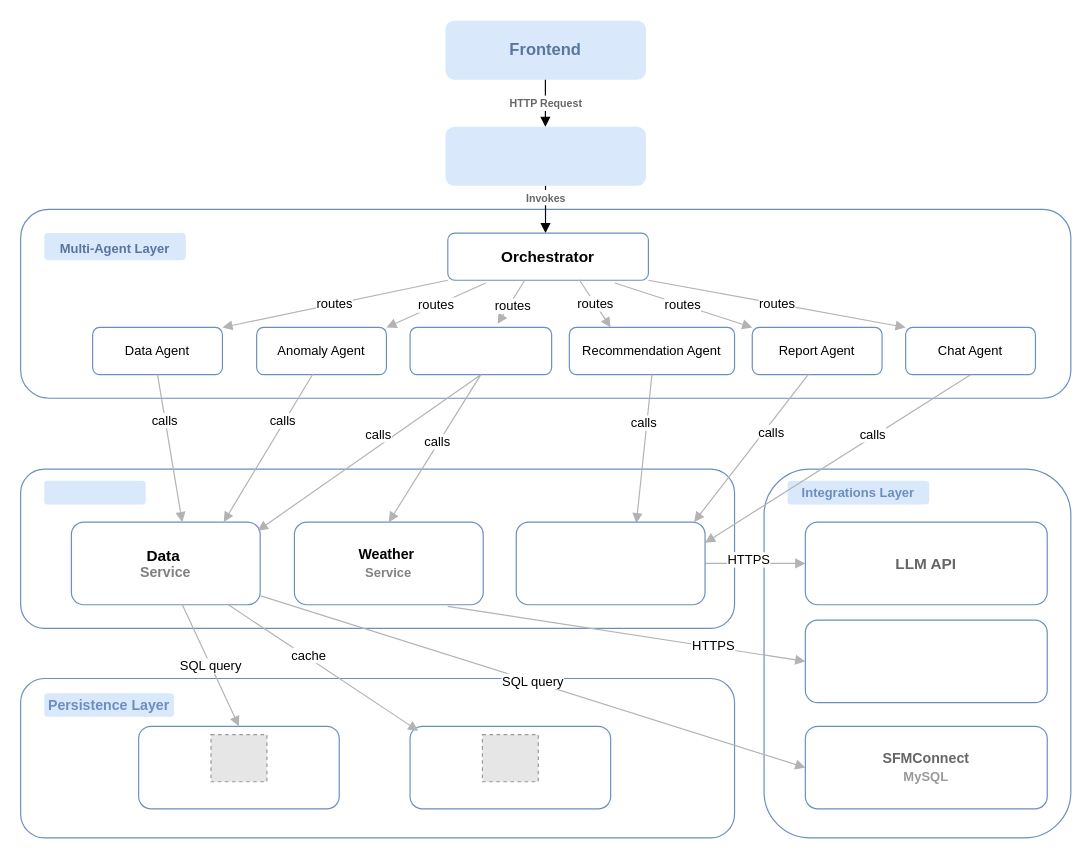
Image size: 1092x858. Some labels were removed from this diagram. Grey dashed boxes stand in for pictures. Each missing label, with the box of its shape:
API Layer FastAPI: (445, 126, 645, 185)
Forecasting Agent: (409, 326, 552, 375)
LLM Service: (515, 521, 705, 605)
MySQL DB: (137, 725, 339, 809)
Redis Cache: (409, 725, 611, 809)
Service Layer: (44, 480, 145, 504)
Weather API: (804, 619, 1047, 703)
